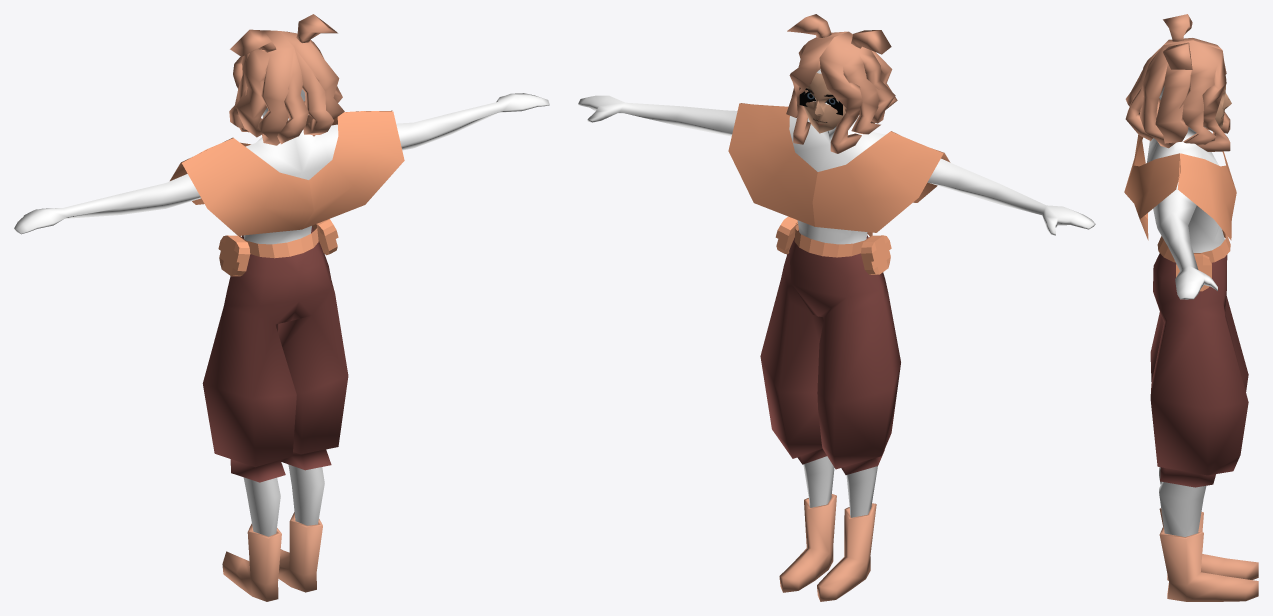
File: mainchara_sub_smooth_notrigged.fbx
3 views of the same model, side by side, from view 1: azimuth 30°, elevation 25°; view 2: azimuth 150°, elevation 25°; view 3: azimuth 270°, elevation 25° (orthographic). The views are drawn at different scales.
Parts seen in each view (by area): view 1: femBase.005, Plane.007, femBase, Cube, femBase.003, Cube.002, Cube.001, Cylinder.001; view 2: femBase.005, Plane.007, femBase, Cube, femBase.003, Cube.002, Cube.001, Cylinder.001; view 3: femBase.005, Cube, femBase, Plane.007, femBase.003, Cube.001, Cylinder.001, Cube.002.
Boxes of the visible parts, x1,y1,x2,y2 form: femBase.005: [202, 226, 348, 482]; Plane.007: [170, 110, 404, 235]; femBase: [14, 89, 549, 536]; Cube: [229, 30, 344, 145]; femBase.003: [222, 512, 322, 601]; Cube.002: [218, 219, 338, 276]; Cube.001: [230, 14, 337, 56]; Cylinder.001: [239, 224, 318, 258]; femBase.005: [760, 230, 900, 474]; Plane.007: [728, 103, 950, 232]; femBase: [578, 69, 1095, 517]; Cube: [786, 31, 897, 153]; femBase.003: [779, 494, 876, 601]; Cube.002: [775, 216, 891, 274]; Cube.001: [787, 14, 891, 54]; Cylinder.001: [794, 222, 872, 257]; femBase.005: [1150, 253, 1248, 487]; Cube: [1125, 38, 1230, 151]; femBase: [1147, 78, 1231, 536]; Plane.007: [1124, 135, 1236, 240]; femBase.003: [1159, 508, 1258, 601]; Cube.001: [1163, 14, 1192, 69]; Cylinder.001: [1157, 230, 1230, 262]; Cube.002: [1176, 254, 1211, 291].
Size of the model in its own units: 147 by 150 by 32.72.
